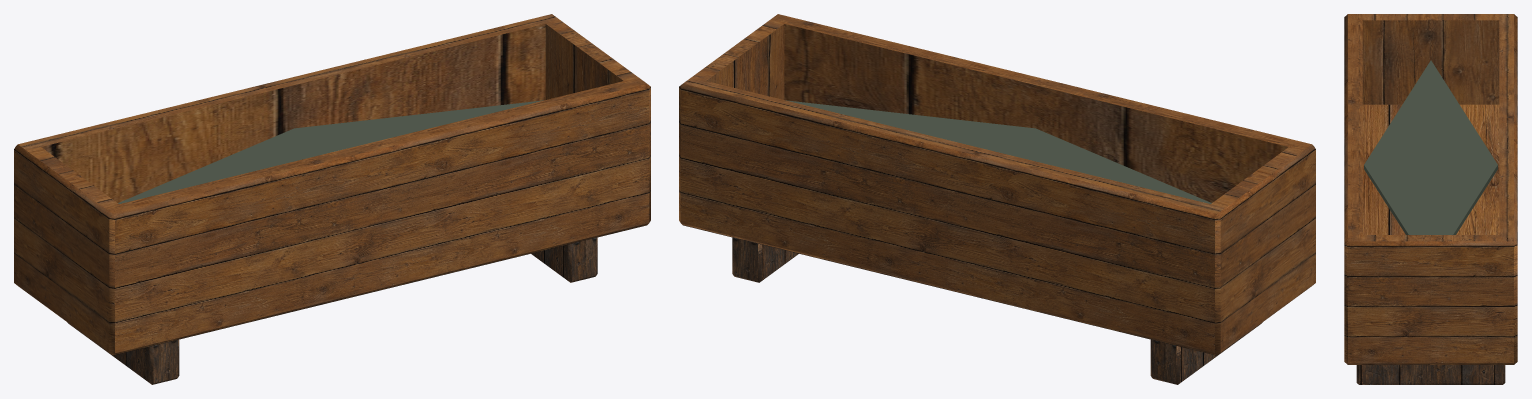
Rendered from animal-trough-v01.glb.
3 views of the same model, side by side, from view 1: azimuth 30°, elevation 25°; view 2: azimuth 150°, elevation 25°; view 3: azimuth 270°, elevation 25° (orthographic). The views are drawn at different scales.
Visible parts, largest first — view 1: animal-trough; view 2: animal-trough; view 3: animal-trough.
Part boxes in pixels (x1=…): animal-trough: x1=14, y1=14, x2=650, y2=384; animal-trough: x1=679, y1=14, x2=1315, y2=384; animal-trough: x1=1344, y1=14, x2=1517, y2=384.
Size of the model in its own units: 2.2 by 0.725 by 0.7.
3 materials, 2 textured.
